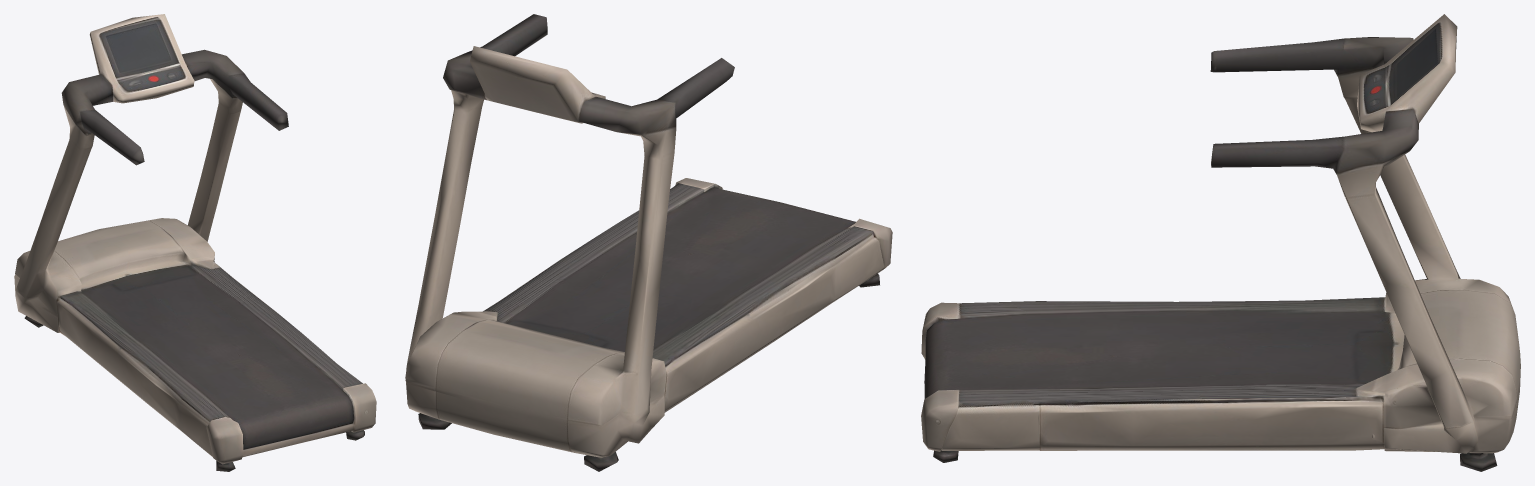
Rendered from treadmill.glb.
3 views of the same model, side by side, from view 1: azimuth 30°, elevation 25°; view 2: azimuth 150°, elevation 25°; view 3: azimuth 270°, elevation 25° (orthographic). The views are drawn at different scales.
Parts seen in each view (by area): view 1: treadmill; view 2: treadmill; view 3: treadmill.
Boxes of the visible parts, x1=… form: treadmill: x1=14, y1=14, x2=376, y2=471; treadmill: x1=405, y1=14, x2=892, y2=471; treadmill: x1=921, y1=14, x2=1520, y2=471.
Bounding box in the file's own units: 0.8499 × 1.29 × 1.8.
1 material, 1 textured.
